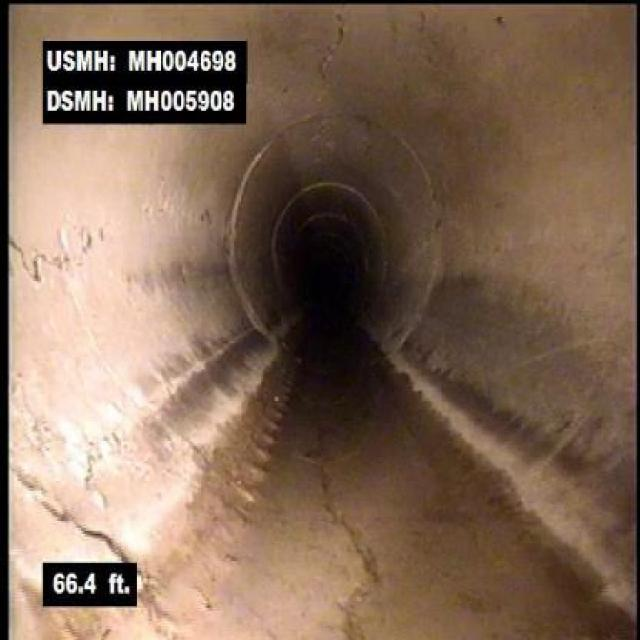Crack: (315, 494, 391, 638), (20, 471, 131, 560), (12, 220, 110, 288), (311, 9, 354, 80)
